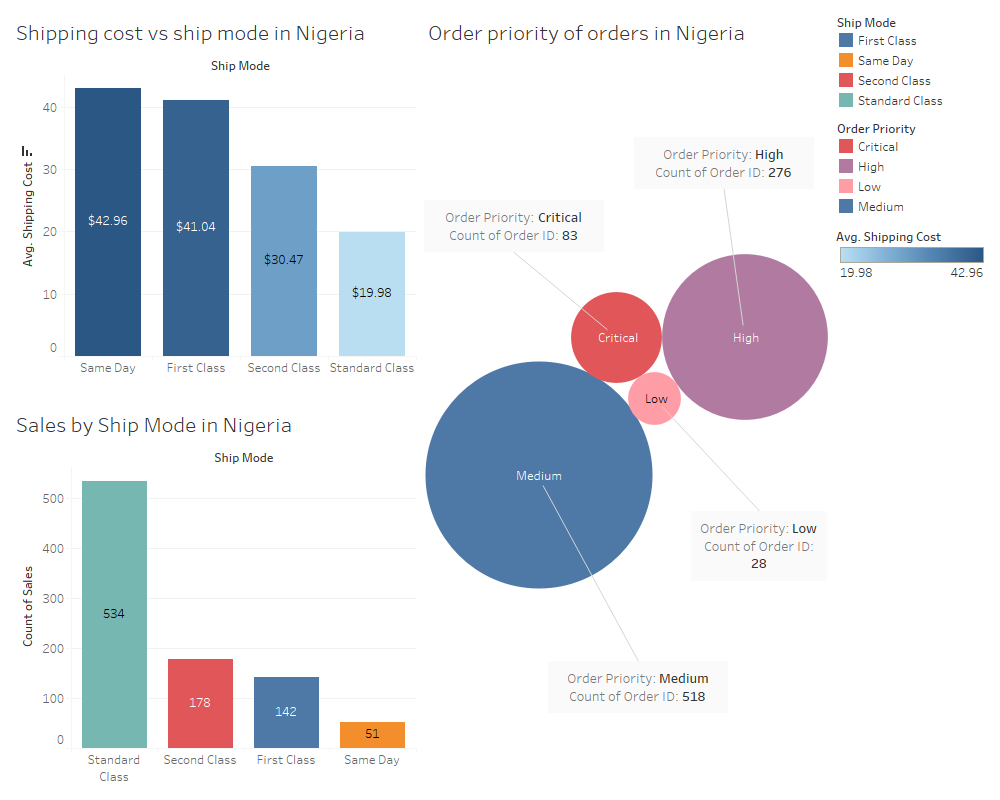

The page's visual inventory and layout, read from the dashboard file:
{"tool":"tableau","page":{"name":"Shipping Analysis for Nigeria","canvas":[1000,800],"ordinal":4},"visuals":[{"type":"worksheet","title":"Shipping cost vs ship mode in Nigeria","mark":"Bar","rows":["Shipping Cost"],"cols":["Ship Mode"],"box":[8,8,412,392]},{"type":"worksheet","title":"Order priority of orders in Nigeria","mark":"Circle","box":[420,8,412,784]},{"type":"legend","title":"Sales by Ship Mode in Nigeria","param":"[federated.034txd11y80kzv1bq5ebt0nzog7h].[none:Ship Mode:nk]","box":[832,8,160,106]},{"type":"legend","title":"Order priority of orders in Nigeria","param":"[federated.034txd11y80kzv1bq5ebt0nzog7h].[none:Order Priority:nk]","box":[832,114,160,106]},{"type":"legend","title":"Shipping cost vs ship mode in Nigeria","param":"[federated.034txd11y80kzv1bq5ebt0nzog7h].[avg:Shipping Cost:qk]","box":[832,220,160,65]},{"type":"worksheet","title":"Sales by Ship Mode in Nigeria","mark":"Bar","rows":["Sales"],"cols":["Ship Mode"],"box":[8,400,412,392]}]}

Visuals, with their boxes in screenshot pixels (x1, y1, x2, y2), scaled from the page's 1000x800 canvas onto the 1000x800 screenshot:
"Shipping cost vs ship mode in Nigeria" worksheet (Bar marks): (x1=8, y1=8, x2=420, y2=400)
"Order priority of orders in Nigeria" worksheet (Circle marks): (x1=420, y1=8, x2=832, y2=792)
"Sales by Ship Mode in Nigeria" legend: (x1=832, y1=8, x2=992, y2=114)
"Order priority of orders in Nigeria" legend: (x1=832, y1=114, x2=992, y2=220)
"Shipping cost vs ship mode in Nigeria" legend: (x1=832, y1=220, x2=992, y2=285)
"Sales by Ship Mode in Nigeria" worksheet (Bar marks): (x1=8, y1=400, x2=420, y2=792)
